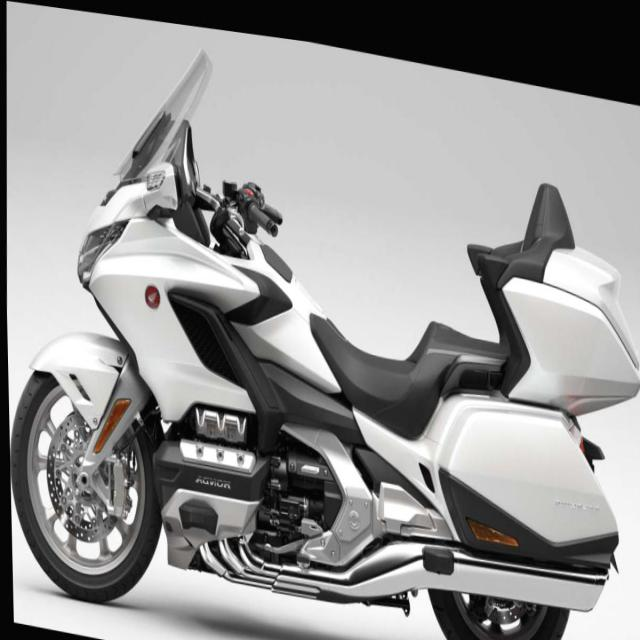Gold Wing: (0, 4, 639, 639)
